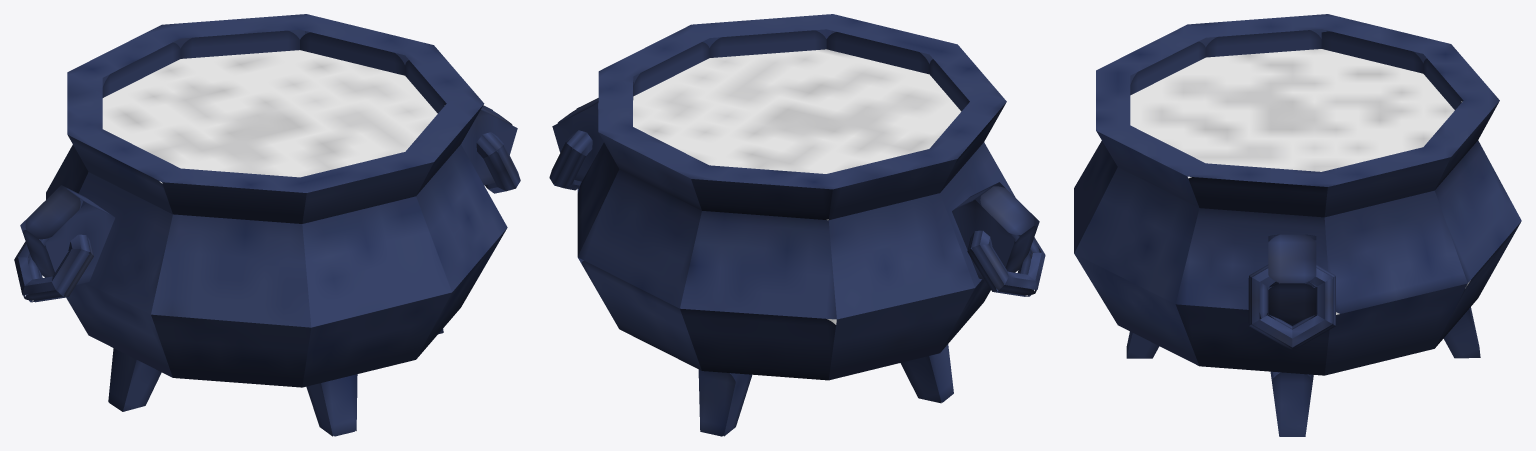
File: Cauldron.fbx
The picture shows the model from 3 angles, left to right: view 1: azimuth 30°, elevation 25°; view 2: azimuth 150°, elevation 25°; view 3: azimuth 270°, elevation 25°; orthographic projection. The views are drawn at different scales.
Parts seen in each view (by area): view 1: cylinder, wax, cylinder_1, torus, cuboid_3, cuboid_1, cylinder_2, torus_1; view 2: cylinder, wax, cylinder_1, torus, cuboid_2, cuboid_1, cylinder_2, torus_1; view 3: cylinder, wax, cylinder_2, torus_1, cuboid, cuboid_2, cuboid_3.
Boxes of the visible parts, box(x1,y1,x2,y2) form: cylinder: box(46, 14, 507, 387); wax: box(102, 50, 437, 183); cylinder_1: box(20, 185, 114, 284); torus: box(14, 234, 93, 302); cuboid_3: box(306, 374, 357, 436); cuboid_1: box(108, 348, 161, 411); cylinder_2: box(461, 105, 517, 185); torus_1: box(476, 132, 520, 193); cylinder: box(577, 14, 1015, 380); wax: box(633, 49, 961, 324); cylinder_1: box(952, 182, 1039, 279); torus: box(967, 230, 1045, 296); cuboid_2: box(698, 369, 752, 436); cuboid_1: box(900, 344, 953, 403); cylinder_2: box(552, 98, 603, 181); torus_1: box(549, 111, 598, 190); cylinder: box(1074, 14, 1521, 375); wax: box(1130, 49, 1470, 314); cylinder_2: box(1268, 234, 1316, 323); torus_1: box(1248, 264, 1335, 349); cuboid: box(1270, 371, 1313, 436); cuboid_2: box(1443, 307, 1480, 358); cuboid_3: box(1126, 331, 1159, 358).
Bounding box in the file's own units: 156 × 81.25 × 128.
